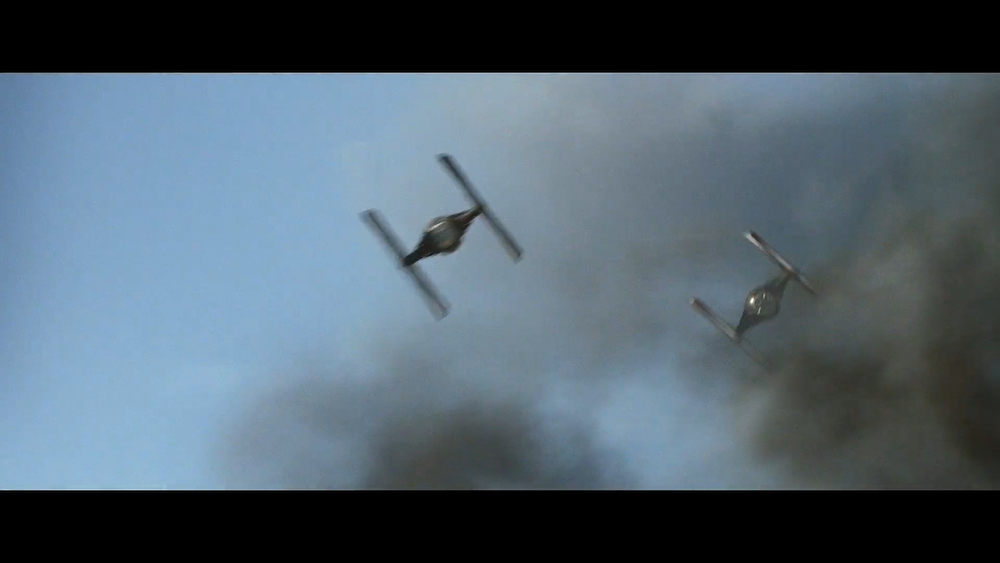Tie Fighter: (359, 153, 527, 324), (689, 230, 840, 382)
